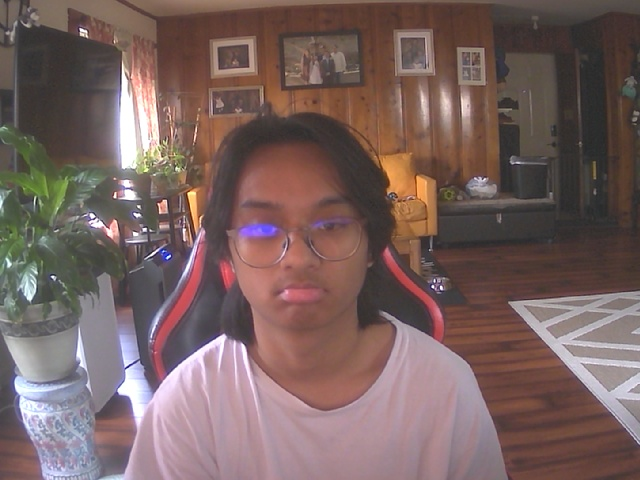sad: (223, 128, 384, 333)
